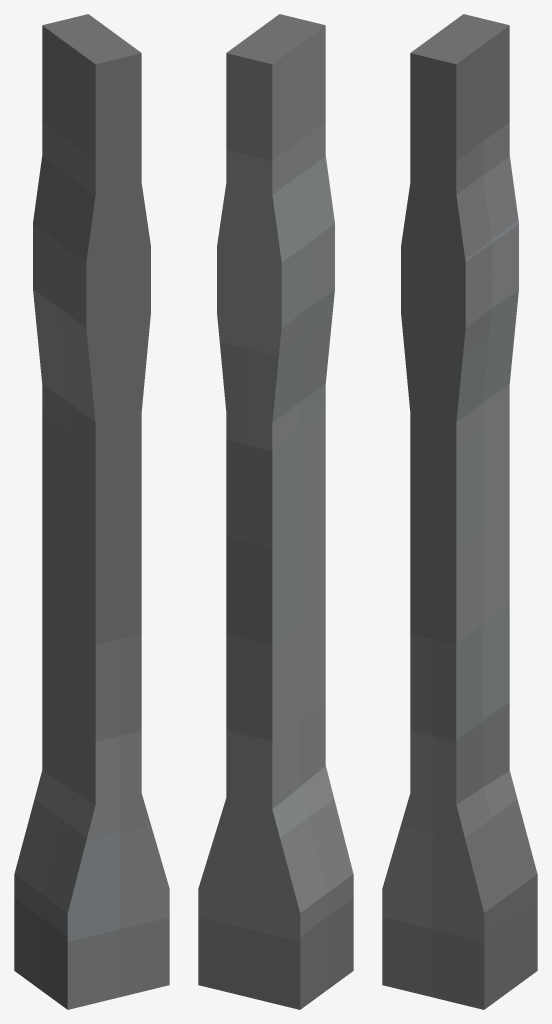
The model's file is meshWallSupport.fbx.
3 views of the same model, side by side, from view 1: azimuth 30°, elevation 25°; view 2: azimuth 150°, elevation 25°; view 3: azimuth 330°, elevation 25° (orthographic).
Visible parts, largest first — view 1: cuboid_selection; view 2: cuboid_selection; view 3: cuboid_selection.
Boxes of the visible parts, x1,y1,x2,y2 form: cuboid_selection: (14, 14, 169, 1009); cuboid_selection: (198, 14, 353, 1009); cuboid_selection: (382, 14, 537, 1009).
Bounding box in the file's own units: 6.88 × 60.62 × 6.25.
Materials: 1 (1 with a texture image).
